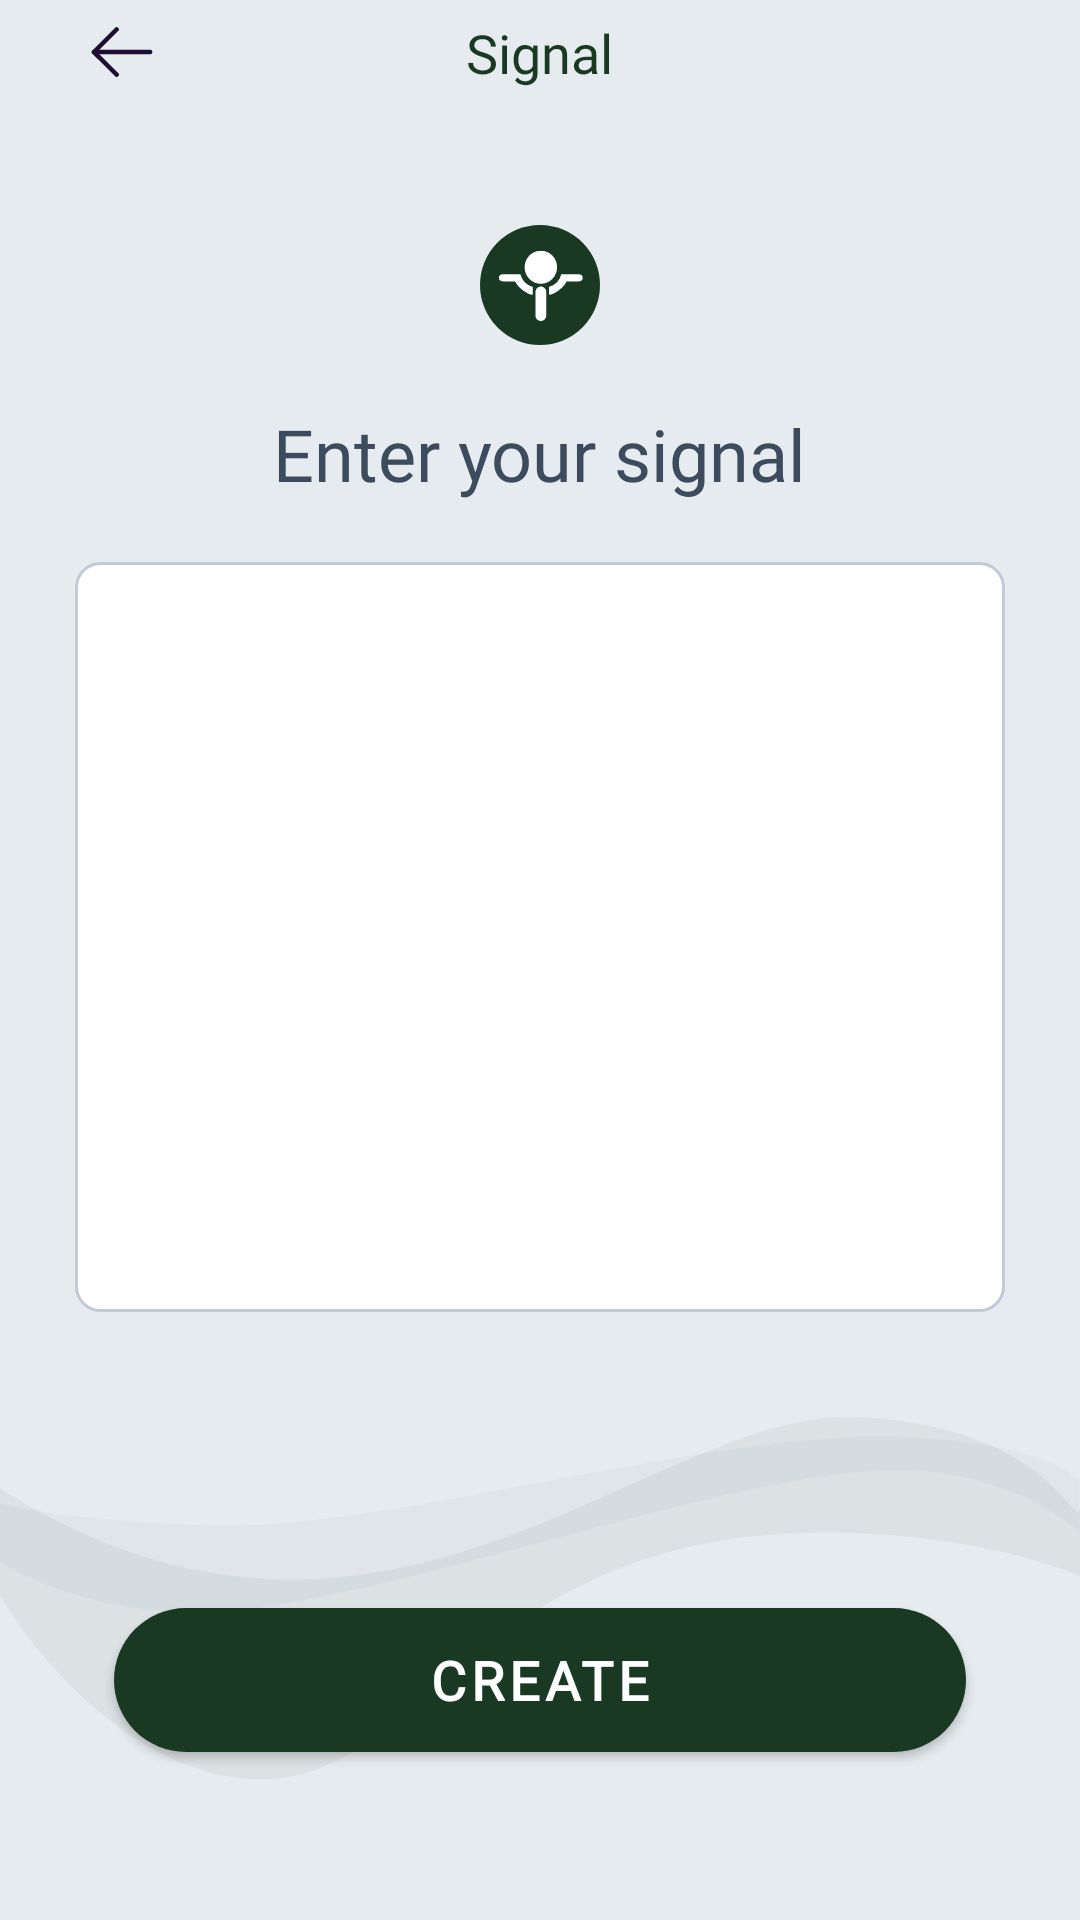

Icon click points for this 1080×1920 phone screenshot, format (x=x, y=y):
back: (x=122, y=52)
